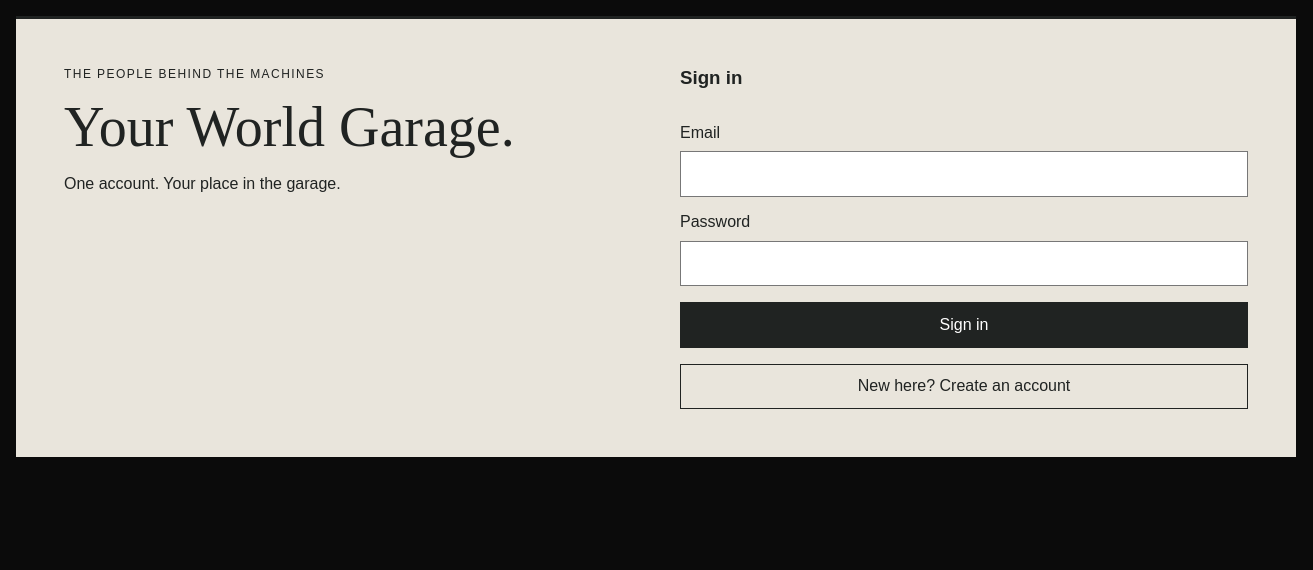
Test: account authentication › shows incorrect credentials and clears password
In the field with id "account-email": (964, 174) [680, 151, 1248, 197], type "owner@example.com"
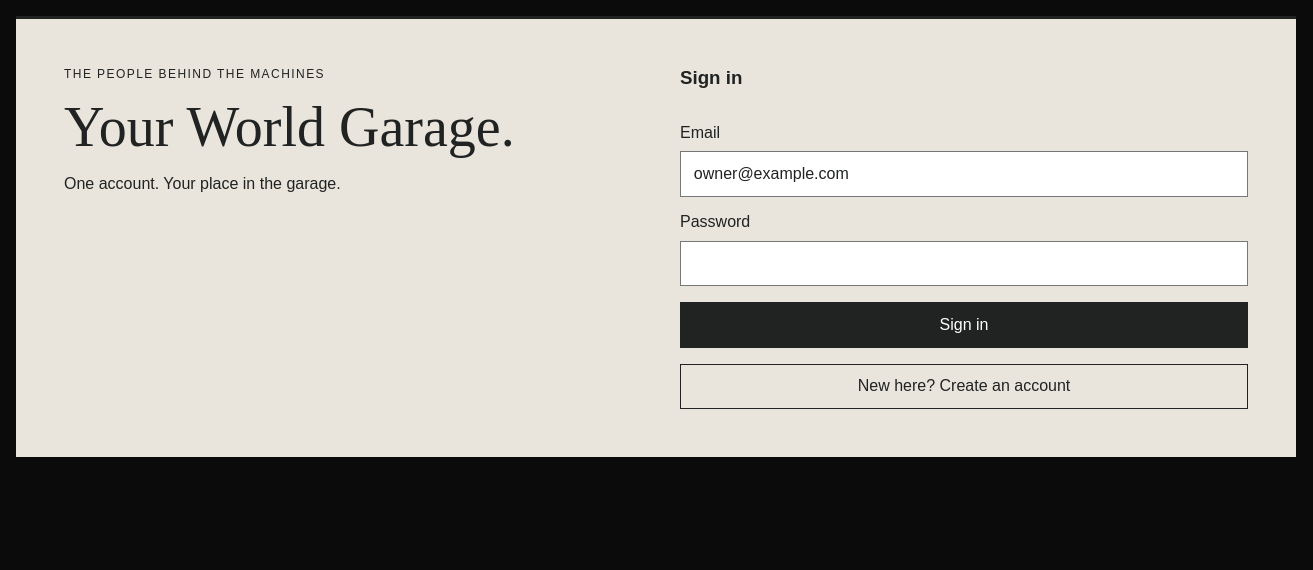
In the password field with id "account-password": (964, 263) [680, 240, 1248, 286], type "Garage@2026"
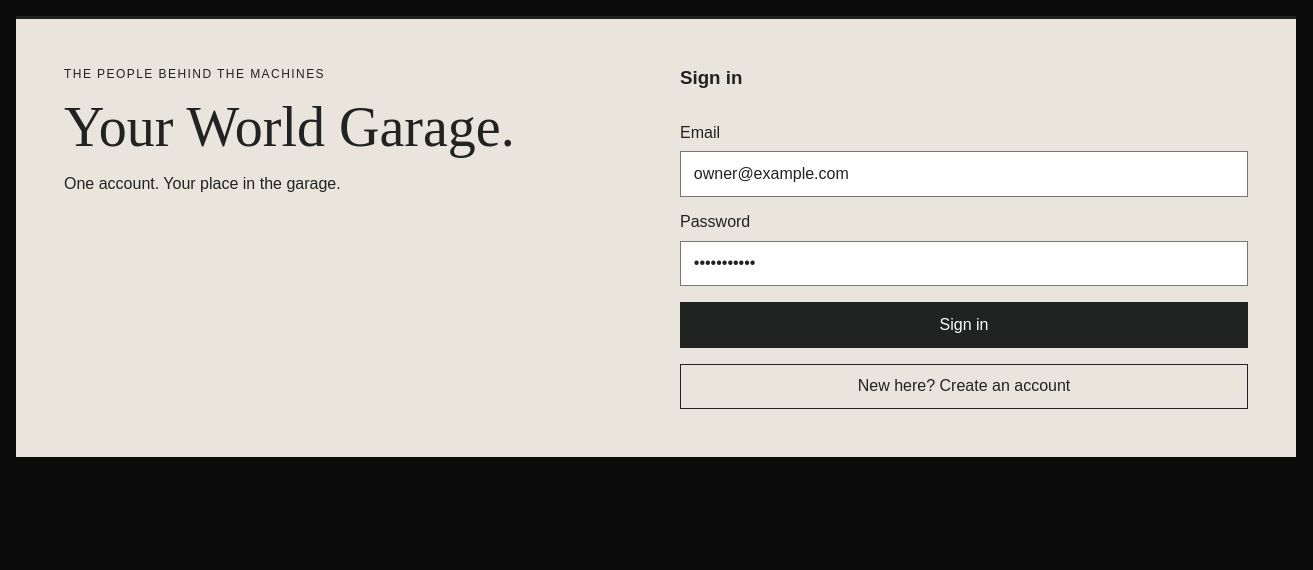
Submit the form, box [680, 67, 1248, 409]
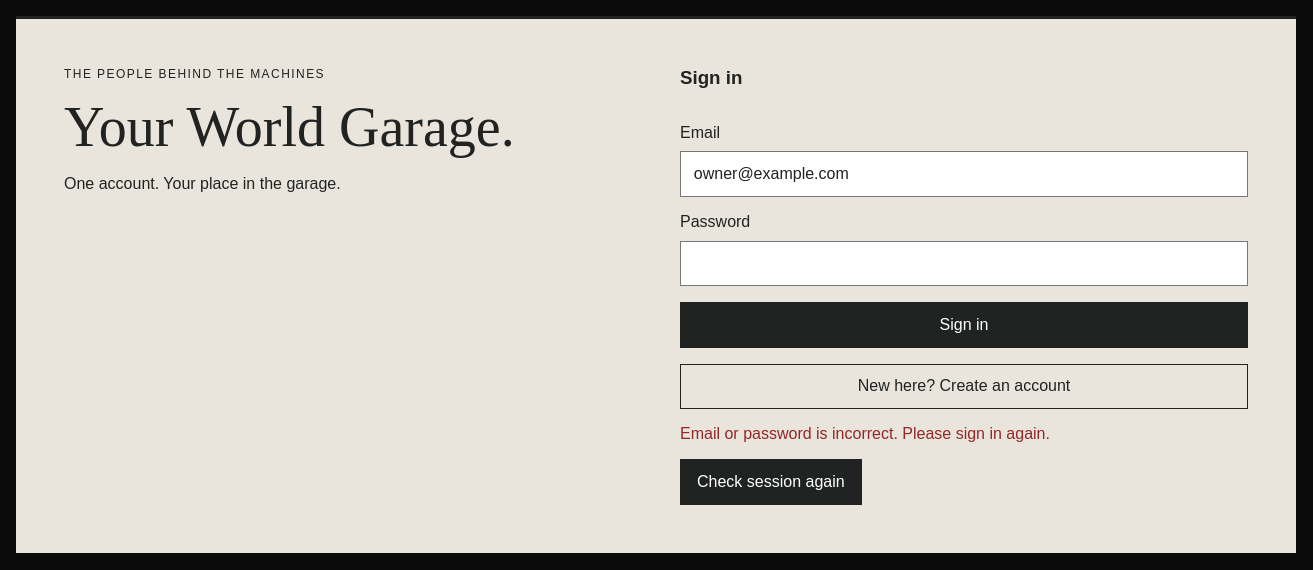
Expected: the message "Email or password is incorrect. Please sign in again. Check session again" is shown, [680, 425, 1050, 505]
Expected: the password field with id "account-password" is empty, [680, 240, 1248, 286]
